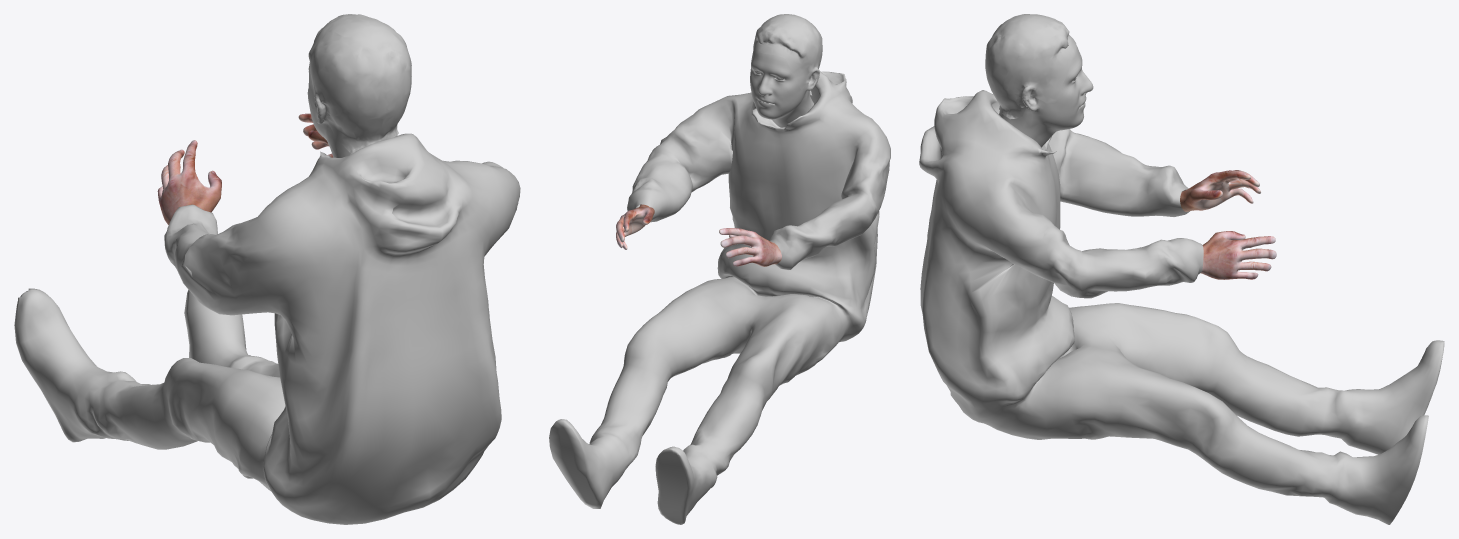
The model's file is Demo_Driver.fbx.
3 renders of one model, left to right at view 1: azimuth 30°, elevation 25°; view 2: azimuth 150°, elevation 25°; view 3: azimuth 270°, elevation 25°, orthographic. The views are drawn at different scales.
Visible parts, largest first — view 1: IND_Man_03.003, IND_Man_03.002, IND_Man_03.004, IND_Man_03.001; view 2: IND_Man_03.003, IND_Man_03.001, IND_Man_03.002, IND_Man_03.004; view 3: IND_Man_03.003, IND_Man_03.002, IND_Man_03.004, IND_Man_03.001.
Boxes of the visible parts, left/top/right/bottom form: IND_Man_03.003: left=14, top=133, right=520, bottom=524; IND_Man_03.002: left=308, top=14, right=411, bottom=154; IND_Man_03.004: left=157, top=113, right=333, bottom=224; IND_Man_03.001: left=307, top=66, right=397, bottom=157; IND_Man_03.003: left=549, top=71, right=890, bottom=524; IND_Man_03.001: left=750, top=53, right=816, bottom=127; IND_Man_03.002: left=750, top=14, right=822, bottom=95; IND_Man_03.004: left=616, top=204, right=781, bottom=266; IND_Man_03.003: left=919, top=90, right=1444, bottom=524; IND_Man_03.002: left=985, top=14, right=1076, bottom=119; IND_Man_03.004: left=1180, top=170, right=1276, bottom=279; IND_Man_03.001: left=999, top=45, right=1093, bottom=147.
Bounding box in the file's own units: 66.58 × 112 × 112.
